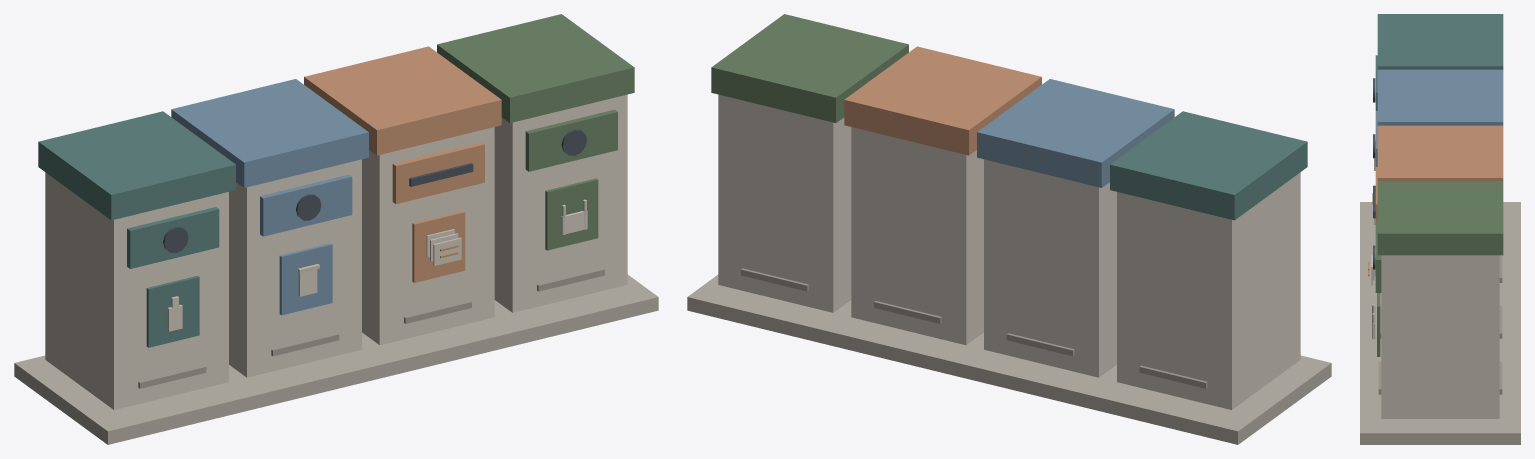
File: komachi-recycling-row.glb
3 views of the same model, side by side, from view 1: azimuth 30°, elevation 25°; view 2: azimuth 150°, elevation 25°; view 3: azimuth 270°, elevation 25° (orthographic). The views are drawn at different scales.
Visible parts, largest first — view 1: Bottle_Bin, Other_Bin, Paper_Bin, Can_Bin, Recycling_Pad; view 2: Bottle_Bin, Other_Bin, Paper_Bin, Can_Bin, Recycling_Pad; view 3: Other_Bin, Recycling_Pad, Paper_Bin, Can_Bin, Bottle_Bin.
Boxes of the visible parts, bbox=[...] form: Bottle_Bin: bbox=[38, 111, 235, 409]; Other_Bin: bbox=[437, 14, 634, 312]; Paper_Bin: bbox=[304, 46, 501, 345]; Can_Bin: bbox=[171, 79, 368, 377]; Recycling_Pad: bbox=[14, 274, 658, 444]; Bottle_Bin: bbox=[1110, 111, 1307, 409]; Other_Bin: bbox=[711, 14, 908, 312]; Paper_Bin: bbox=[844, 46, 1041, 345]; Can_Bin: bbox=[977, 79, 1174, 377]; Recycling_Pad: bbox=[687, 274, 1331, 444]; Other_Bin: bbox=[1372, 181, 1503, 418]; Recycling_Pad: bbox=[1360, 202, 1520, 444]; Paper_Bin: bbox=[1368, 125, 1503, 338]; Can_Bin: bbox=[1372, 69, 1503, 282]; Bottle_Bin: bbox=[1373, 14, 1503, 170].
Size of the model in its own units: 0.68 by 0.282 by 0.2.
